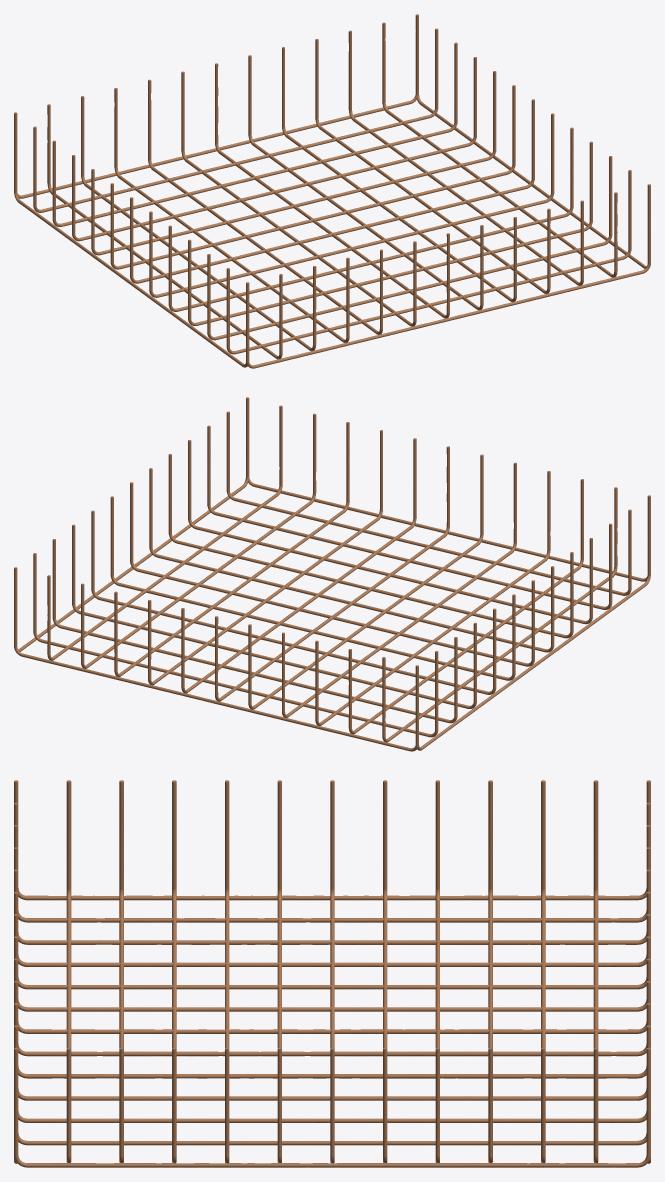
3 renders of one model, top to bottom at view 1: azimuth 30°, elevation 25°; view 2: azimuth 150°, elevation 25°; view 3: azimuth 270°, elevation 25°, orthographic. The views are drawn at different scales.
Parts seen in each view (by area): view 1: Rebar Bar H12 : Shape 21 [355495]_[319274]001, Rebar Bar H12 : Shape 21 [355494]_[319274]001; view 2: Rebar Bar H12 : Shape 21 [355495]_[319274]001, Rebar Bar H12 : Shape 21 [355494]_[319274]001; view 3: Rebar Bar H12 : Shape 21 [355494]_[319274]001, Rebar Bar H12 : Shape 21 [355495]_[319274]001.
Part boxes in pixels (<box>): Rebar Bar H12 : Shape 21 [355495]_[319274]001: <box>14,14,650,368</box>; Rebar Bar H12 : Shape 21 [355494]_[319274]001: <box>14,15,650,367</box>; Rebar Bar H12 : Shape 21 [355495]_[319274]001: <box>14,399,650,751</box>; Rebar Bar H12 : Shape 21 [355494]_[319274]001: <box>14,397,650,750</box>; Rebar Bar H12 : Shape 21 [355494]_[319274]001: <box>14,782,650,1167</box>; Rebar Bar H12 : Shape 21 [355495]_[319274]001: <box>14,780,650,1163</box>.
Size of the model in its own units: 1.7 by 0.3497 by 1.7.
